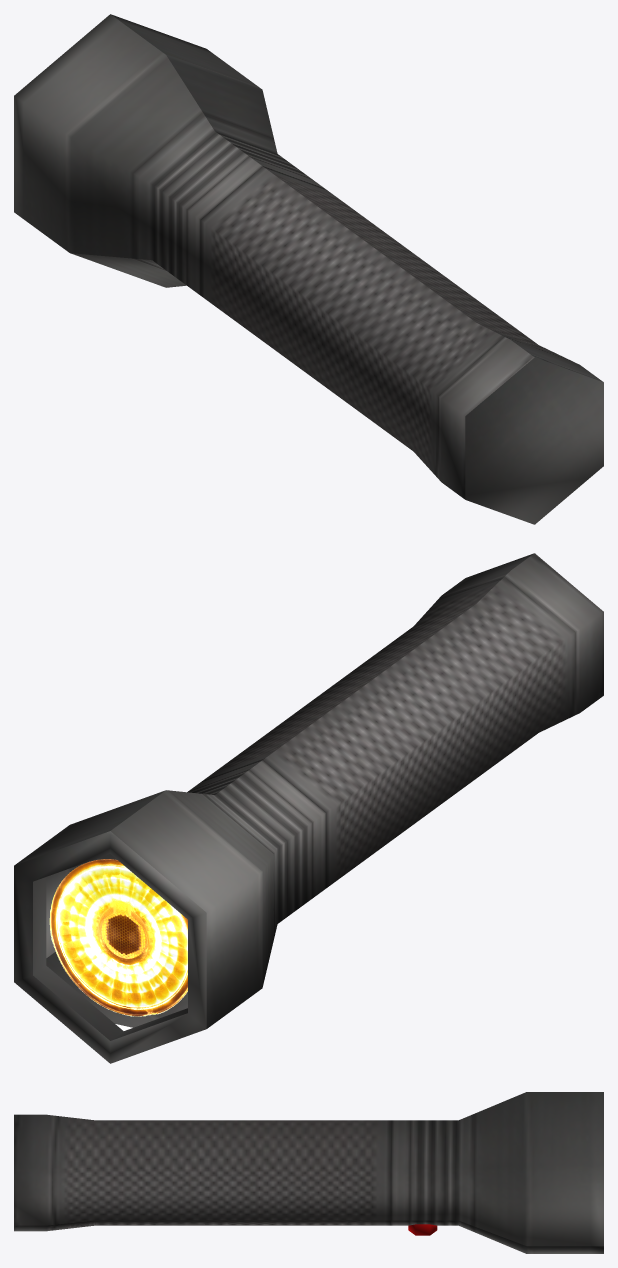
Rendered from FlashlightMesh.fbx.
3 views of the same model, one above another, from view 1: azimuth 30°, elevation 25°; view 2: azimuth 150°, elevation 25°; view 3: azimuth 270°, elevation 25° (orthographic). The views are drawn at different scales.
Visible parts, largest first — view 1: Flashlight; view 2: Flashlight; view 3: Flashlight.
Part boxes in pixels (box(x1,y1,x2,y2)): Flashlight: box(14, 14, 603, 524); Flashlight: box(14, 553, 603, 1063); Flashlight: box(14, 1092, 603, 1253).
Bounding box in the file's own units: 45.68 × 52.75 × 174.
